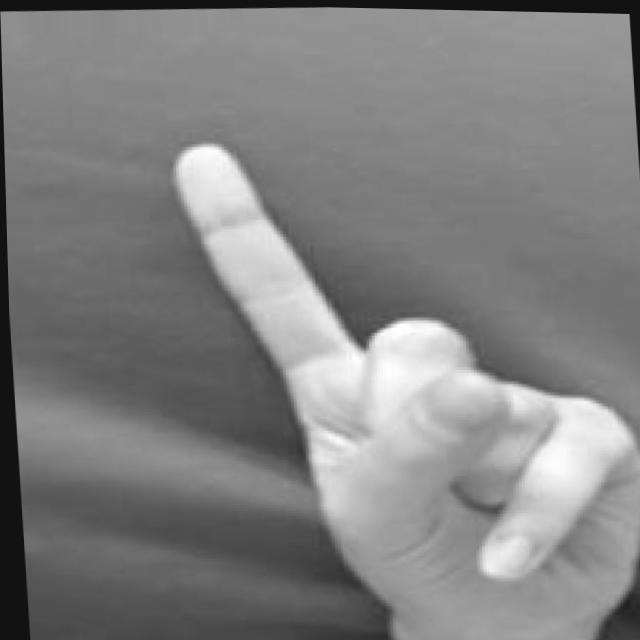I: (166, 119, 640, 640)
